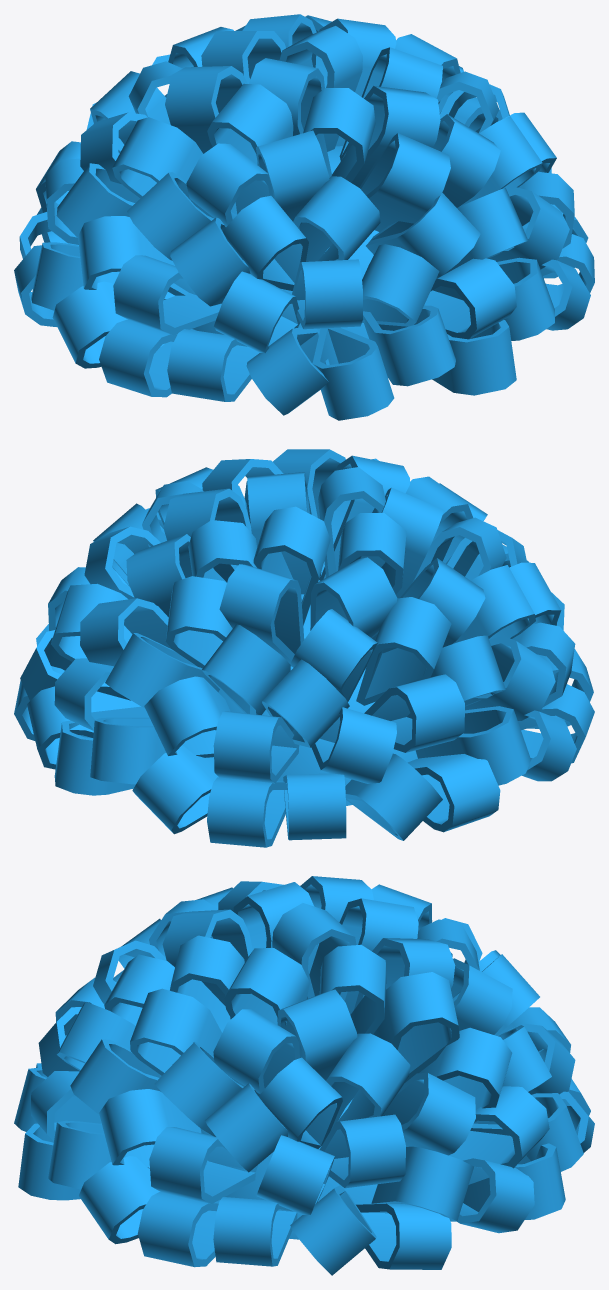
File: Cake_ThemeBows_A.FBX
3 views of the same model, one above another, from view 1: azimuth 30°, elevation 25°; view 2: azimuth 150°, elevation 25°; view 3: azimuth 270°, elevation 25° (orthographic).
Visible parts, largest first — view 1: Cake_ThemeBows_A; view 2: Cake_ThemeBows_A; view 3: Cake_ThemeBows_A.
Part boxes in pixels (left/top/right/bottom): Cake_ThemeBows_A: left=14, top=14, right=594, bottom=420; Cake_ThemeBows_A: left=14, top=449, right=594, bottom=847; Cake_ThemeBows_A: left=14, top=876, right=594, bottom=1275.
Size of the model in its own units: 106699 by 56050 by 107026.
